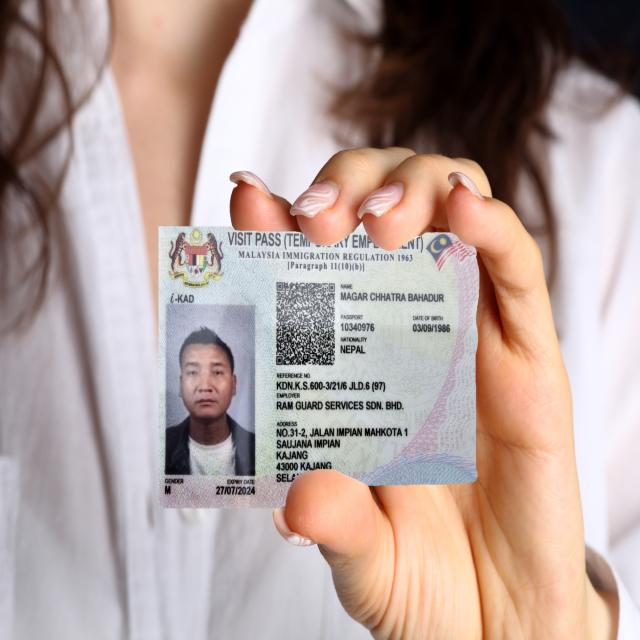ikad-temp: (150, 219, 483, 511)
